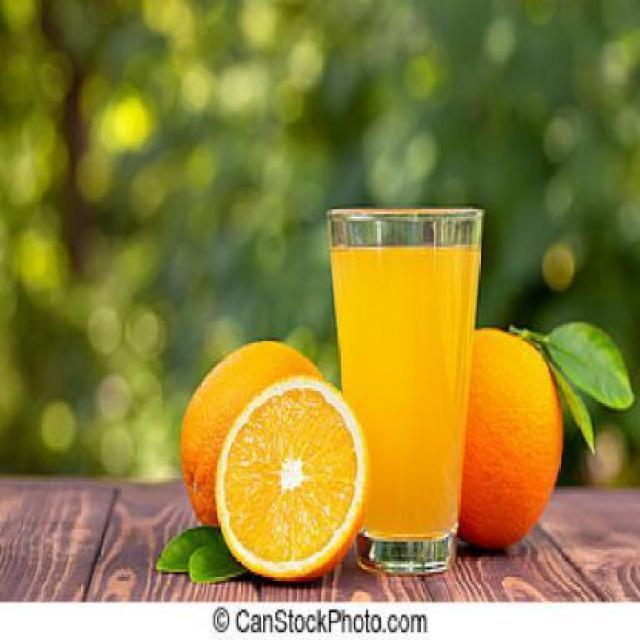Jeruk Sudah Matang: (404, 328, 566, 554), (182, 343, 331, 557)
